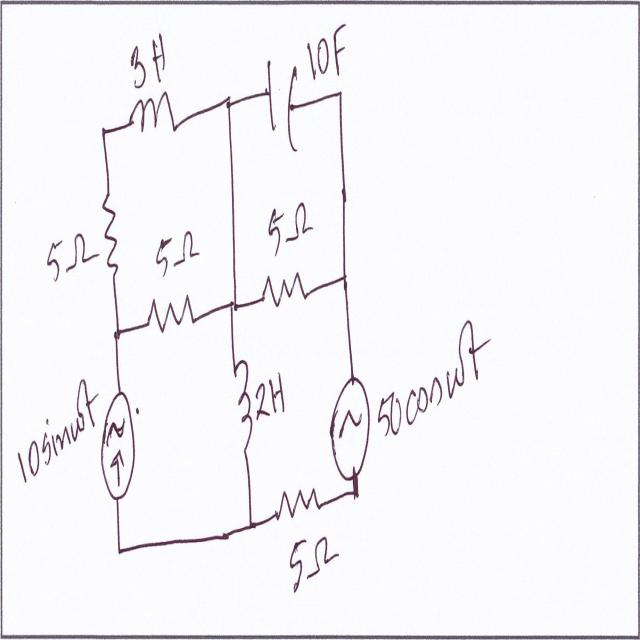ac_current: (329, 372, 373, 480)
capacitor: (264, 38, 304, 157)
current_source: (98, 388, 136, 502)
inductor: (232, 347, 257, 458), (128, 86, 176, 142)
resistor: (144, 283, 198, 341), (276, 479, 323, 532), (260, 261, 306, 313), (100, 185, 124, 279)
